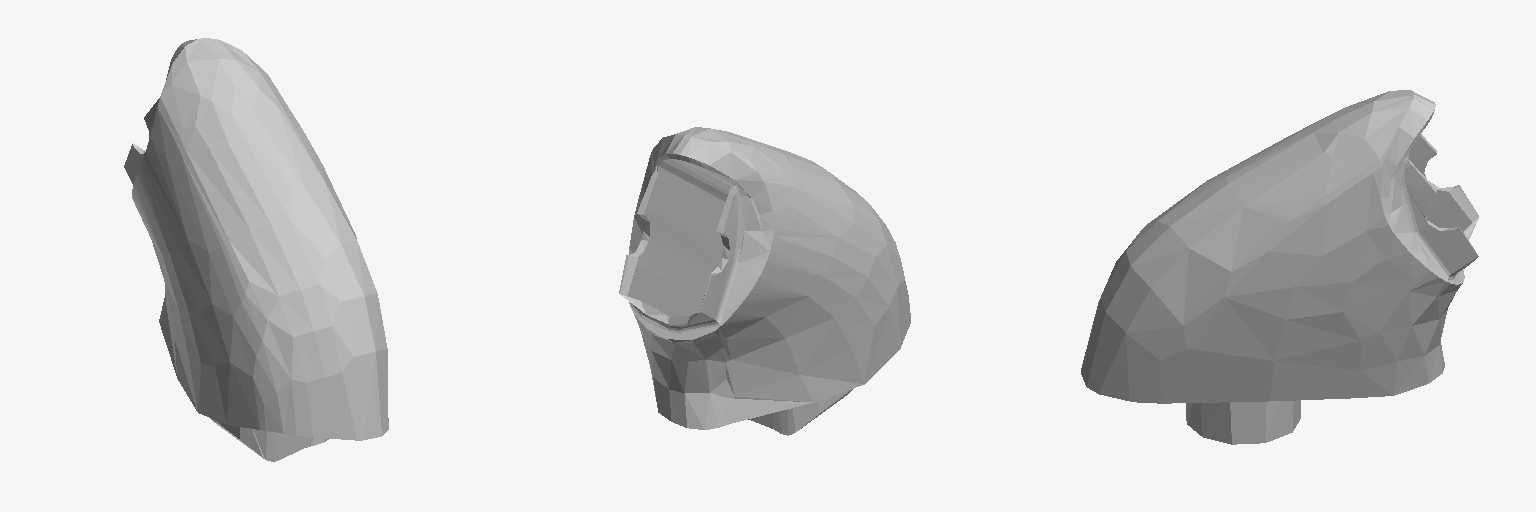
The model's file is thumbBaseRight.obj.
3 renders of one model, left to right at view 1: azimuth 30°, elevation 25°; view 2: azimuth 150°, elevation 25°; view 3: azimuth 270°, elevation 25°, orthographic.
Visible parts, largest first — view 1: unnamed_object1; view 2: unnamed_object1; view 3: unnamed_object1.
Part boxes in pixels (bbox=[...]): unnamed_object1: bbox=[124, 38, 388, 461]; unnamed_object1: bbox=[619, 127, 910, 435]; unnamed_object1: bbox=[1081, 90, 1478, 444].
Size of the model in its own units: 0.0474 by 0.0923 by 0.1006.